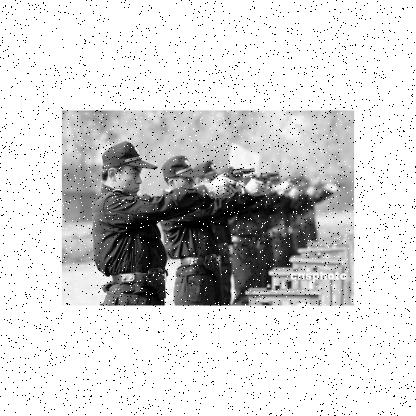gun: (219, 166, 254, 190), (254, 171, 278, 191)
